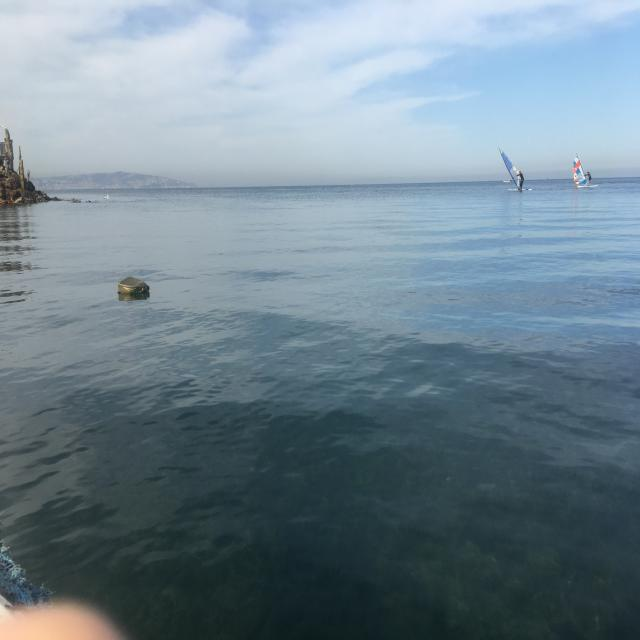Plastic: (116, 275, 150, 296)
